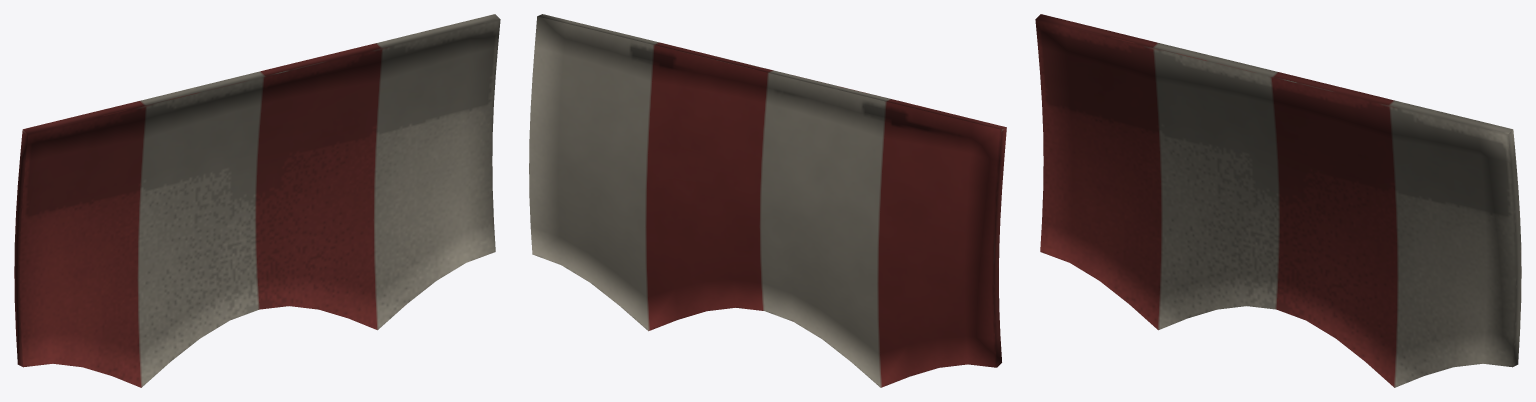
The model's file is drape_red.obj.
3 views of the same model, side by side, from view 1: azimuth 30°, elevation 25°; view 2: azimuth 150°, elevation 25°; view 3: azimuth 330°, elevation 25° (orthographic).
Parts seen in each view (by area): view 1: part0, part1; view 2: part0, part1; view 3: part1, part0.
Boxes of the visible parts, bbox=[...] form: part0: bbox=[14, 43, 382, 387]; part1: bbox=[138, 14, 500, 387]; part0: bbox=[645, 42, 1006, 387]; part1: bbox=[529, 14, 890, 387]; part1: bbox=[1153, 43, 1521, 387]; part0: bbox=[1035, 14, 1397, 387].
Size of the model in its own units: 1 by 0.5826 by 0.0499.
